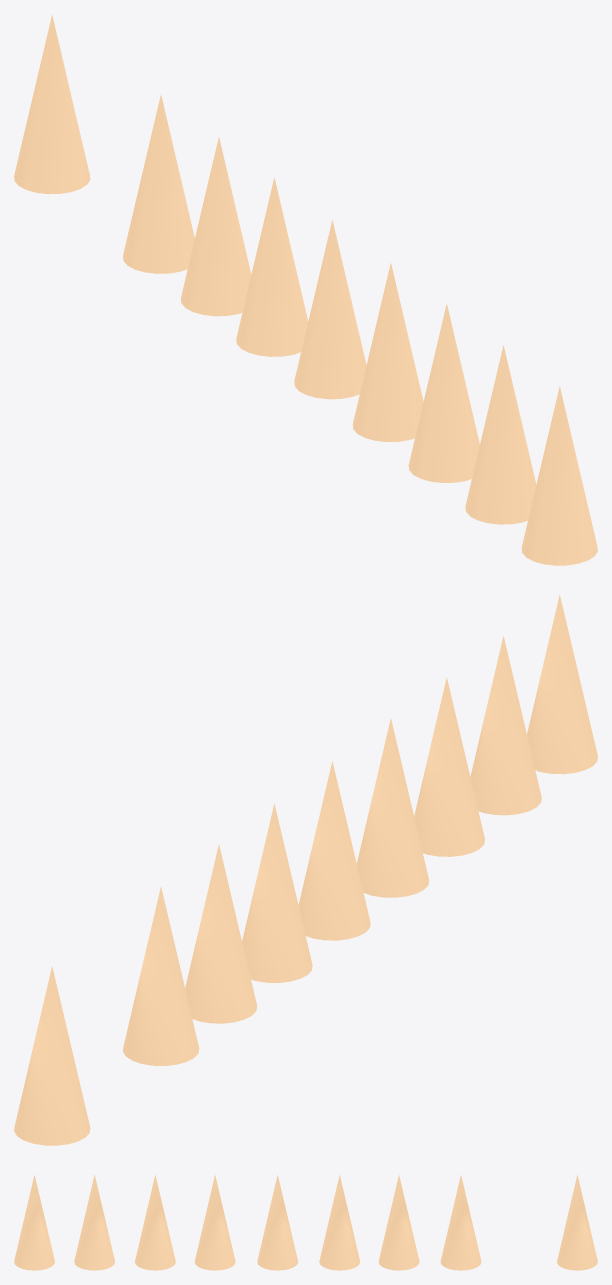
File: 聚光灯.fbx
3 renders of one model, top to bottom at view 1: azimuth 30°, elevation 25°; view 2: azimuth 150°, elevation 25°; view 3: azimuth 270°, elevation 25°, orthographic. The views are drawn at different scales.
Parts seen in each view (by area): view 1: polySurface5455, polySurface5460, polySurface5456, polySurface5459, polySurface5457, polySurface5453, polySurface5454, polySurface5452, polySurface5458; view 2: polySurface5460, polySurface5459, polySurface5452, polySurface5456, polySurface5458, polySurface5454, polySurface5455, polySurface5453, polySurface5457; view 3: polySurface5459, polySurface5452, polySurface5454, polySurface5456, polySurface5457, polySurface5458, polySurface5453, polySurface5455, polySurface5460.
Part boxes in pixels (box(x1,y1,x2,y2)): polySurface5455: box(521, 386, 597, 565); polySurface5460: box(14, 14, 90, 194); polySurface5456: box(294, 220, 366, 399); polySurface5459: box(123, 94, 194, 273); polySurface5457: box(236, 177, 308, 356); polySurface5453: box(408, 303, 479, 482); polySurface5454: box(465, 345, 536, 524); polySurface5452: box(352, 263, 423, 441); polySurface5458: box(181, 137, 251, 316); polySurface5460: box(14, 966, 90, 1145); polySurface5459: box(123, 887, 199, 1065); polySurface5452: box(356, 718, 428, 897); polySurface5456: box(298, 761, 370, 940); polySurface5458: box(185, 844, 256, 1023); polySurface5454: box(470, 636, 541, 815); polySurface5455: box(527, 594, 597, 774); polySurface5453: box(414, 677, 484, 856); polySurface5457: box(242, 803, 312, 982); polySurface5459: box(440, 1175, 481, 1270); polySurface5452: box(194, 1174, 235, 1270); polySurface5454: box(74, 1175, 114, 1270); polySurface5456: box(257, 1175, 298, 1270); polySurface5457: box(319, 1175, 360, 1270); polySurface5458: box(378, 1175, 419, 1270); polySurface5453: box(135, 1175, 175, 1270); polySurface5455: box(14, 1175, 54, 1270); polySurface5460: box(557, 1175, 597, 1270).
Size of the model in its own units: 137 by 322 by 1946.
